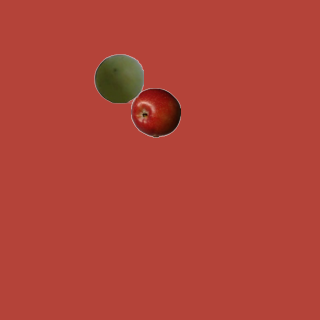Apple Braeburn: (130, 87, 180, 137)
Grape White 4: (93, 53, 143, 103)
